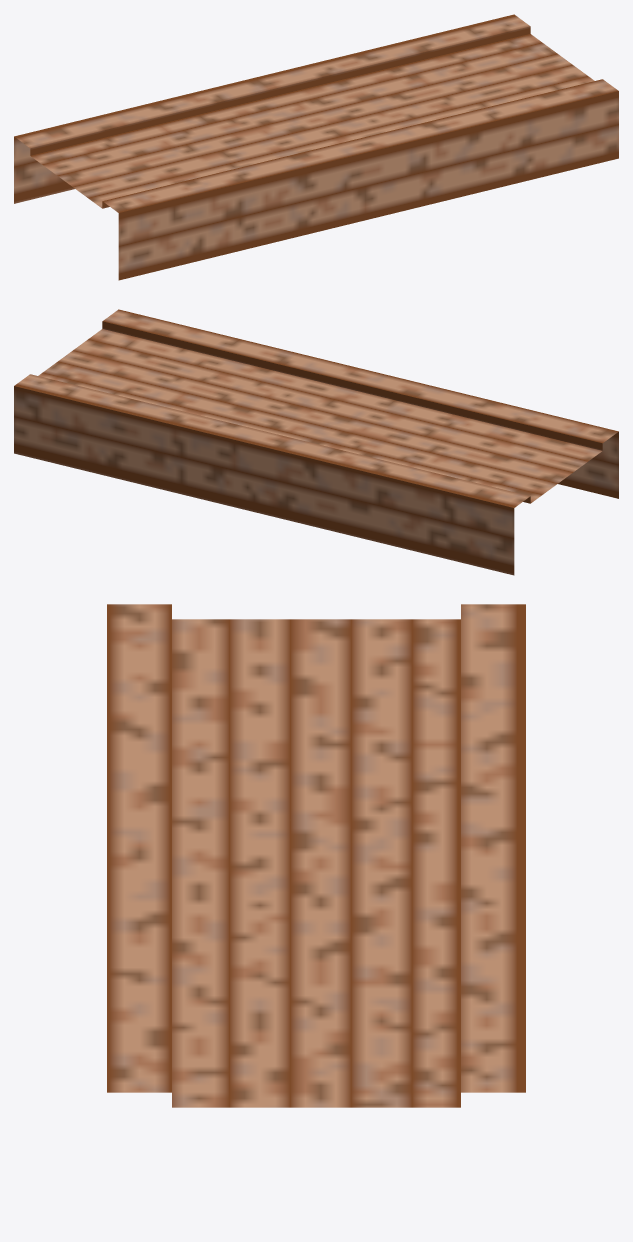
Rendered from Table.fbx.
The picture shows the model from 3 angles, top to bottom: view 1: azimuth 30°, elevation 25°; view 2: azimuth 150°, elevation 25°; view 3: azimuth 270°, elevation 25°; orthographic projection. The views are drawn at different scales.
Parts seen in each view (by area): view 1: pCube1; view 2: pCube1; view 3: pCube1.
Part boxes in pixels (left/top/right/bottom): pCube1: left=14, top=14, right=618, bottom=280; pCube1: left=14, top=309, right=618, bottom=575; pCube1: left=107, top=604, right=525, bottom=1107.
Bounding box in the file's own units: 0.4 × 0.0515 × 0.1449.
1 material, 1 textured.
